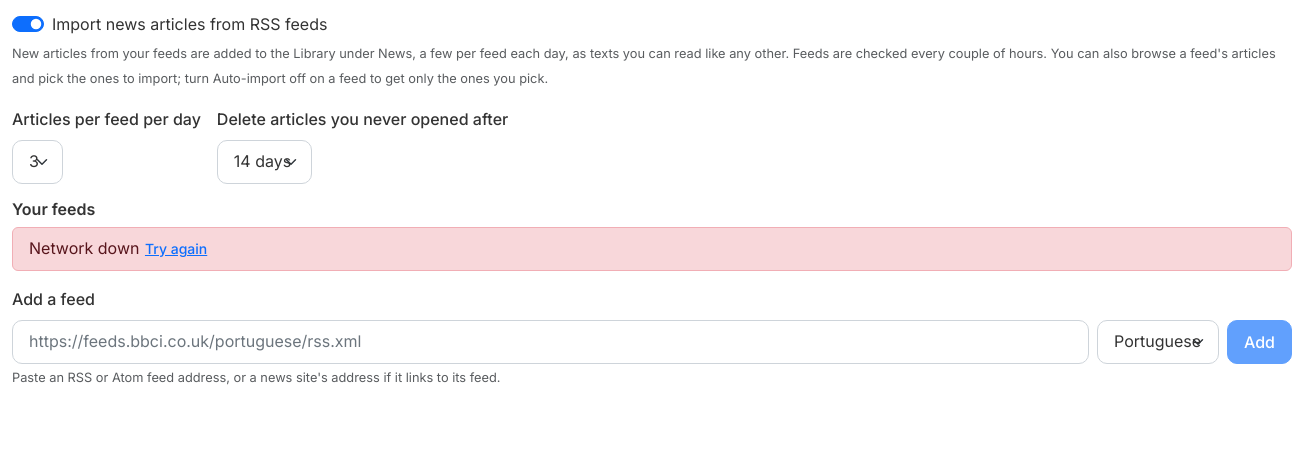
it: NewsFeedSettings › a failed load can be retried
The width and height of the screenshot is (1304, 471).
Expected: the text "Network down Try again" is shown, [12,227,1292,271]
Click the button "Try again": (176, 249) [144,237,208,260]
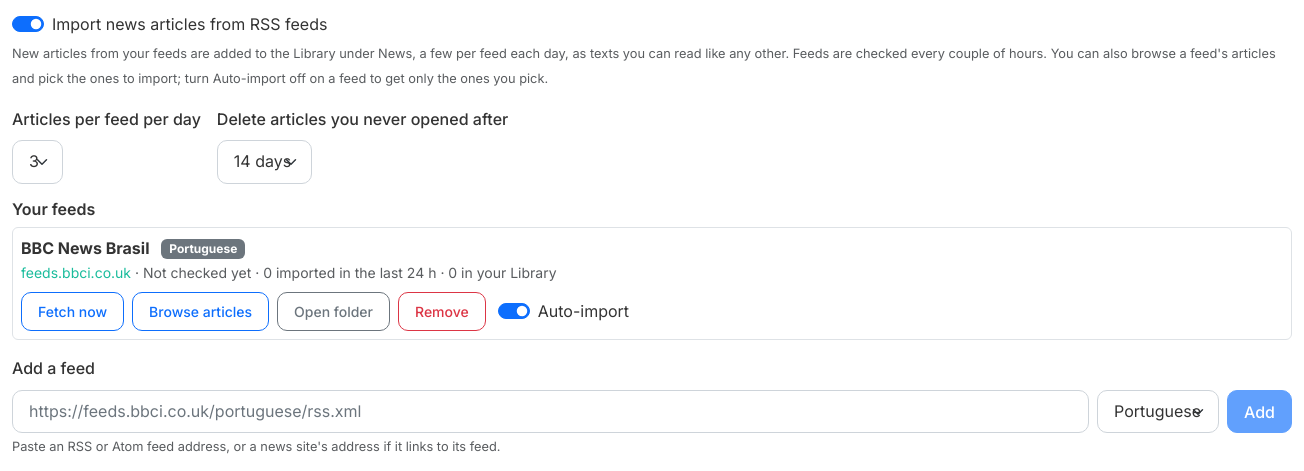
Expected: the text "BBC News Brasil" is shown, [21,236,150,262]
